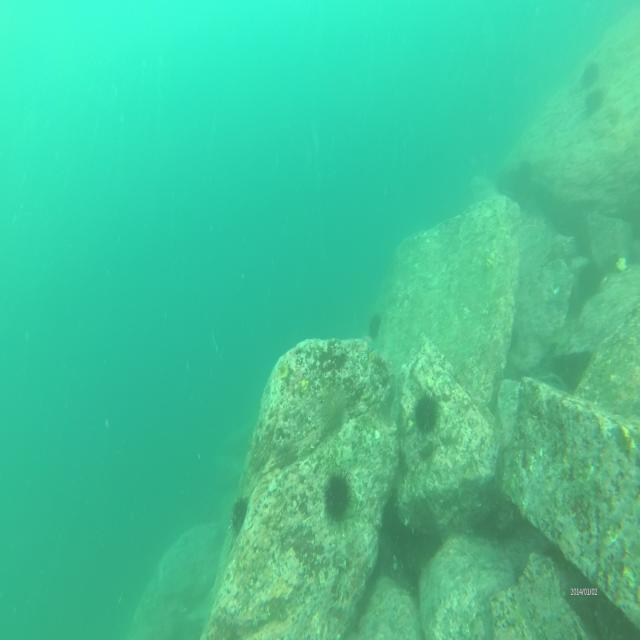echinus: (318, 470, 356, 527), (412, 390, 445, 442), (227, 489, 250, 541), (583, 86, 606, 120), (580, 65, 599, 92), (368, 311, 383, 344)
